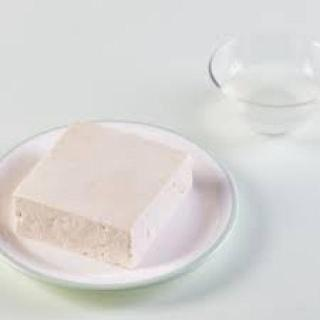Tahu: (11, 119, 223, 267)
